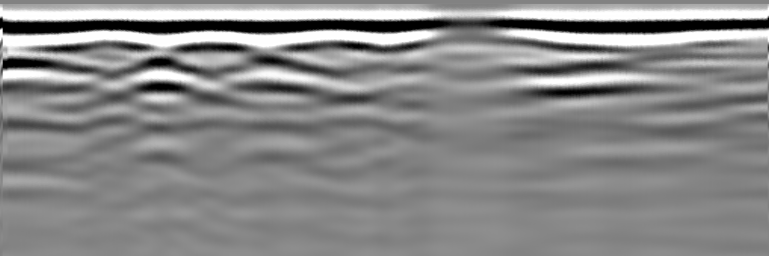pipe: (415, 17, 518, 46)
steel: (124, 48, 204, 75), (230, 48, 316, 71)
